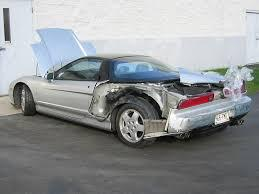boot-dent: (175, 68, 232, 99)
quaterpanel-dent: (128, 80, 183, 112)
